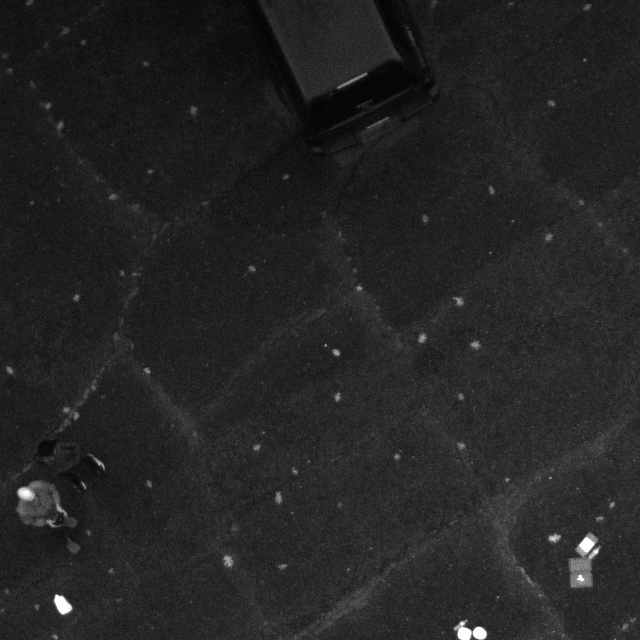bottle: (586, 546, 600, 563)
container: (567, 554, 594, 590), (572, 531, 598, 559)
